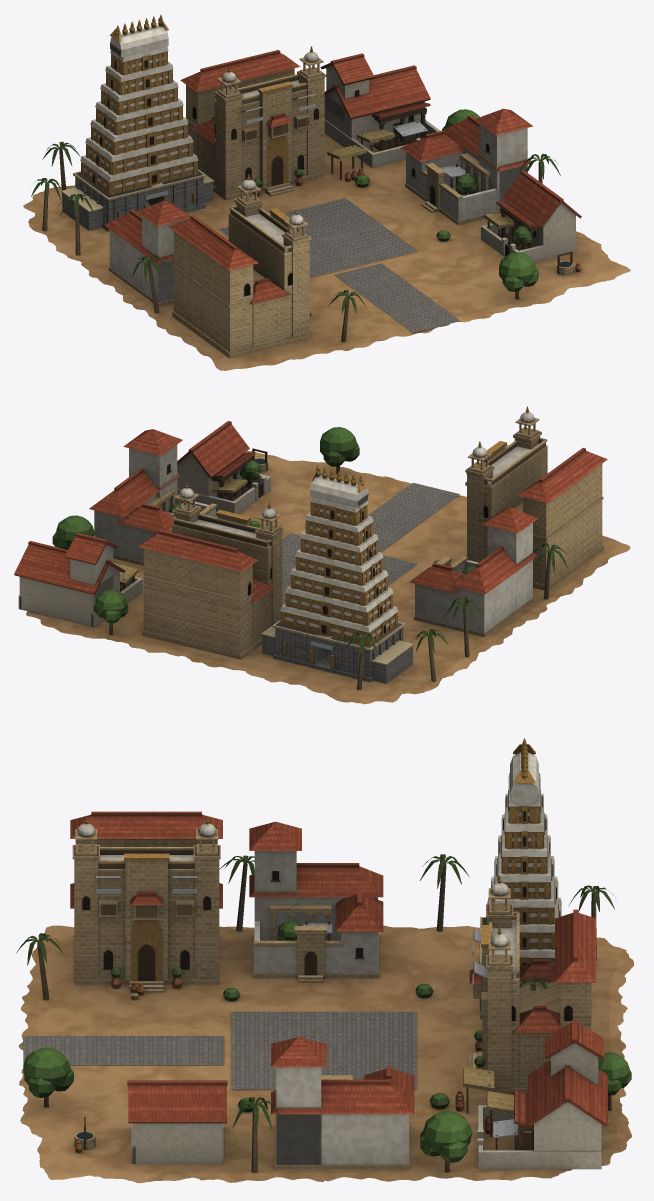
The model's file is kingdoms-town-small-a-indic.glb.
3 views of the same model, one above another, from view 1: azimuth 30°, elevation 25°; view 2: azimuth 150°, elevation 25°; view 3: azimuth 270°, elevation 25° (orthographic). The views are drawn at different scales.
Parts seen in each view (by area): view 1: LOD0; view 2: LOD0; view 3: LOD0.
Boxes of the visible parts, x1=… form: LOD0: x1=23, y1=14, x2=630, y2=370; LOD0: x1=14, y1=406, x2=630, y2=704; LOD0: x1=16, y1=738, x2=633, y2=1183.
Size of what is drawn, in the model's own units: 4.1 by 1.73 by 4.06.
3 materials, 3 textured.
